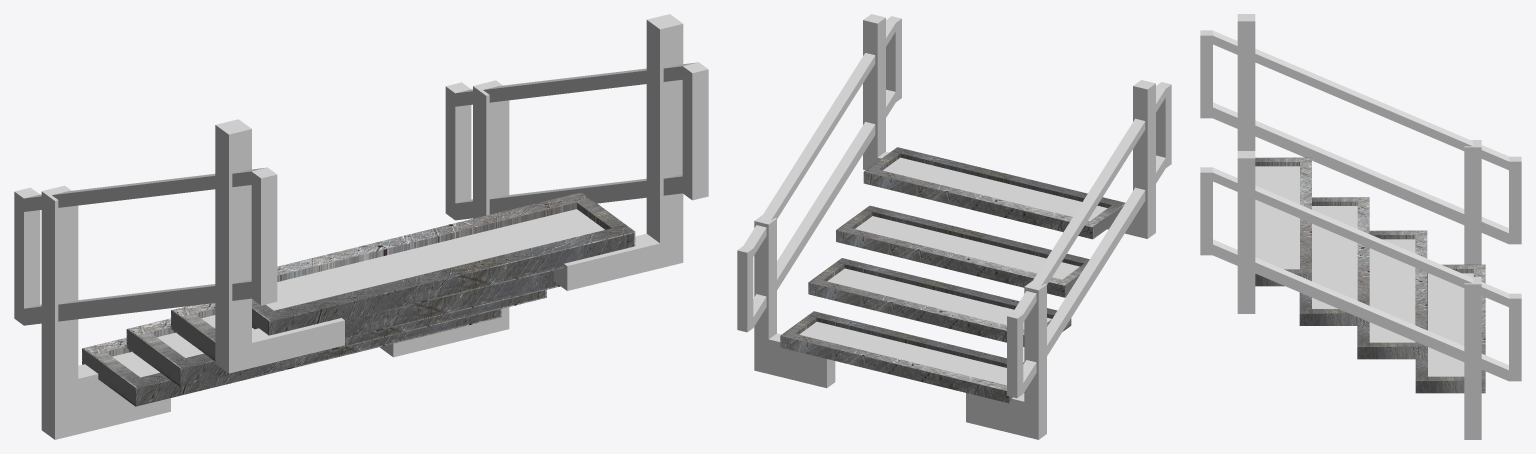
File: lesyt.fbx
3 views of the same model, side by side, from view 1: azimuth 30°, elevation 25°; view 2: azimuth 150°, elevation 25°; view 3: azimuth 270°, elevation 25° (orthographic). The views are drawn at different scales.
Parts seen in each view (by area): view 1: Cube.004; view 2: Cube.004; view 3: Cube.004.
Part boxes in pixels (x1,y1,x2,y2): Cube.004: [14, 14, 708, 439]; Cube.004: [737, 14, 1171, 439]; Cube.004: [1200, 14, 1521, 439].
Bounding box in the file's own units: 269 × 245 × 253.
